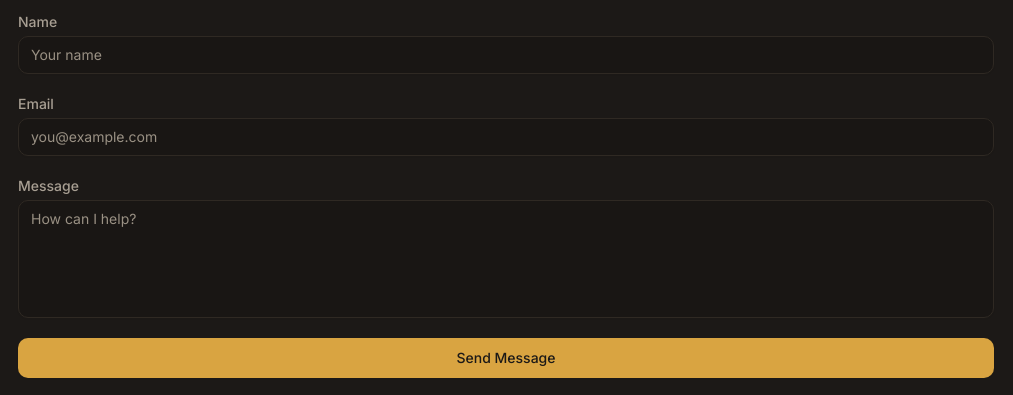
Test: ContactForm › shows confirmation message on valid submit
Type "Jane" into the field labelled "Name" at (506, 55), box [18,36,994,74]
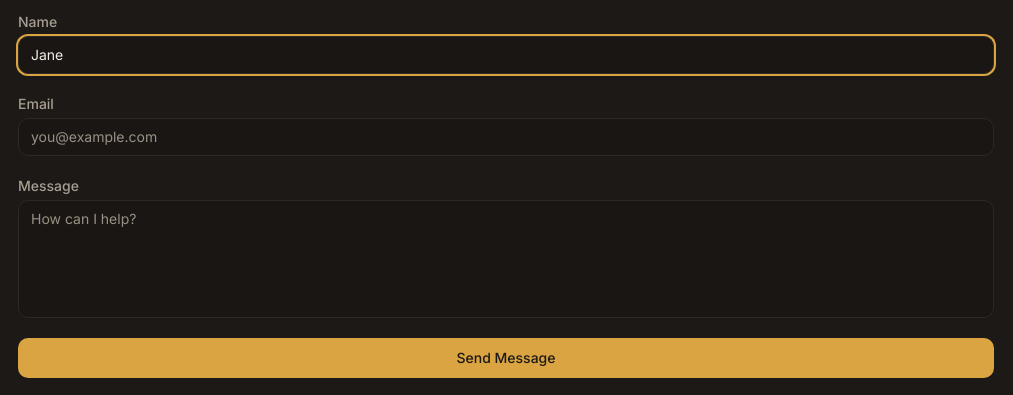
Type "jane@example.com" into the field labelled "Email" at (506, 137), box [18,118,994,156]
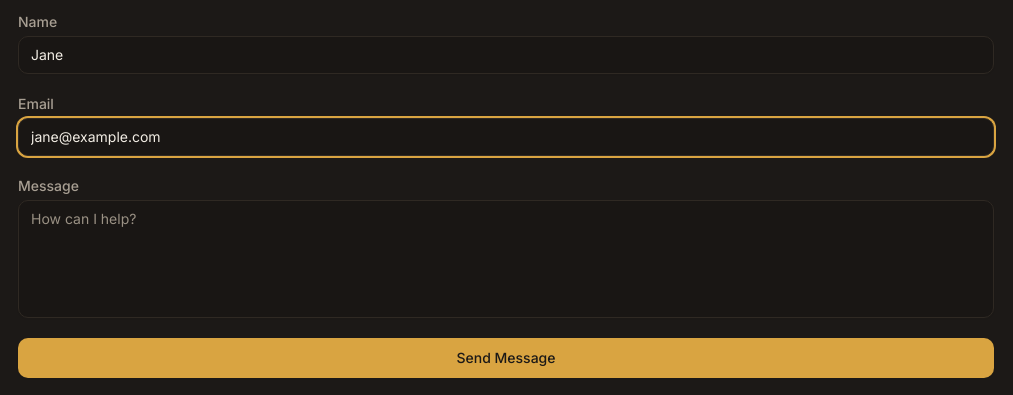
Type "Hello there" into the text box labelled "Message" at (506, 259), box [18,200,994,318]
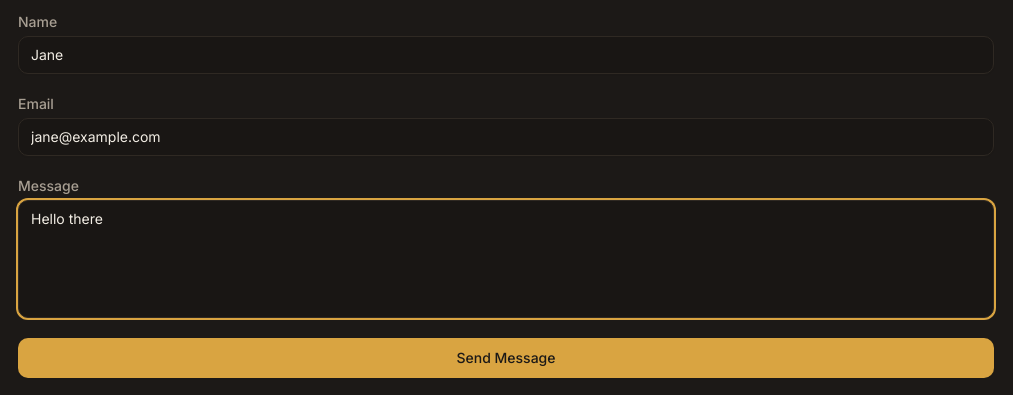
Submit the form "Name Email Message Send Message"
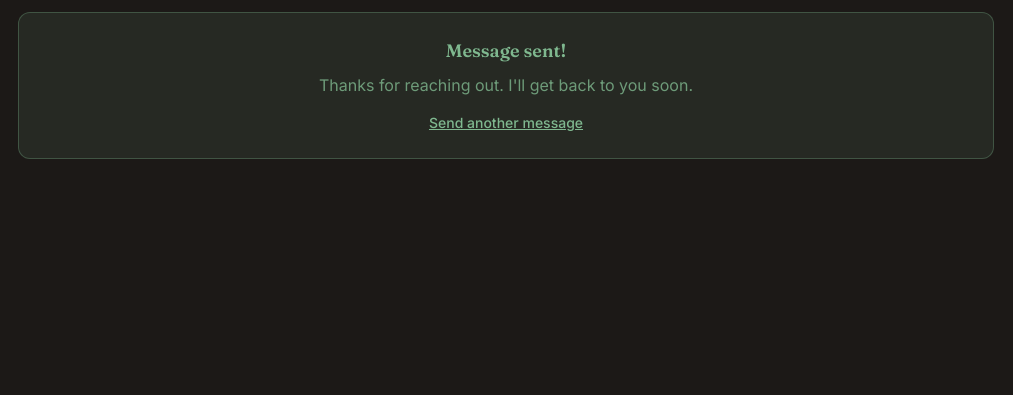
Expected: the heading "Message sent!" is shown, [446,39,566,62]
Expected: the text "Thanks for reaching out. I'll get back to you soon." is shown, [319,75,693,95]
